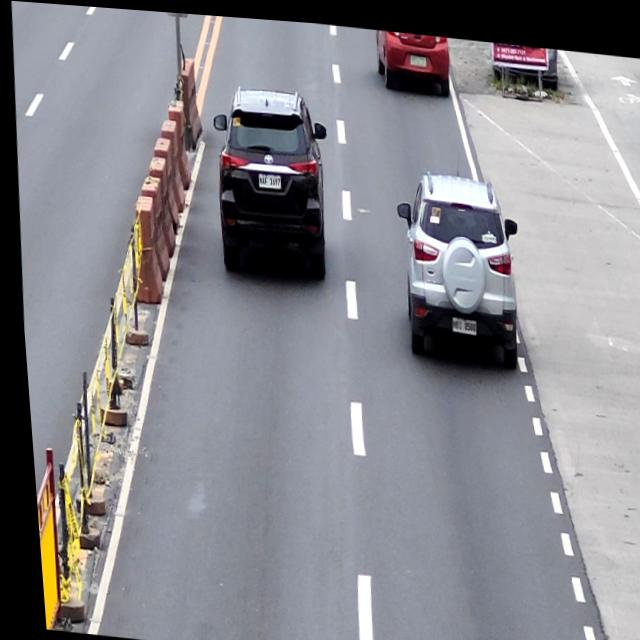Car: (388, 162, 524, 363), (203, 78, 334, 278), (372, 23, 452, 89)
License-Plate: (445, 308, 473, 330), (254, 166, 280, 187), (407, 48, 425, 63)
